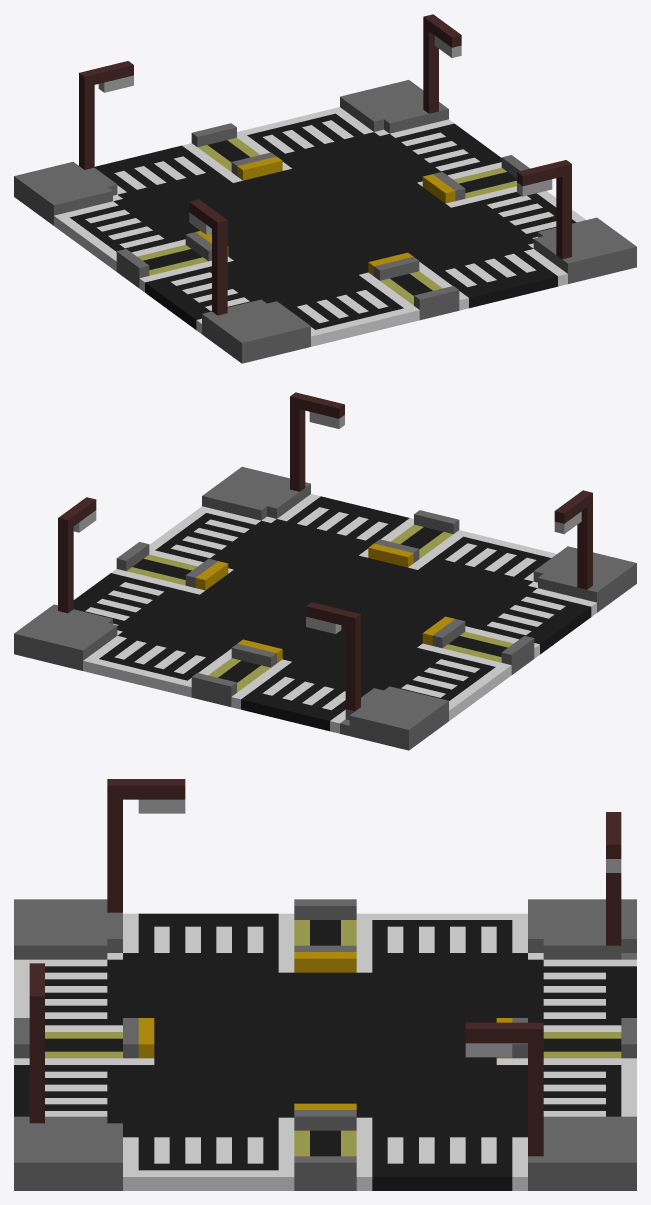
The model's file is RoadkIntersection01.fbx.
3 views of the same model, one above another, from view 1: azimuth 30°, elevation 25°; view 2: azimuth 150°, elevation 25°; view 3: azimuth 270°, elevation 25° (orthographic). The views are drawn at different scales.
Parts seen in each view (by area): view 1: ObjObject; view 2: ObjObject; view 3: ObjObject.
Boxes of the visible parts, <box> form: ObjObject: <box>14,14,636,363</box>; ObjObject: <box>14,392,636,750</box>; ObjObject: <box>14,779,636,1190</box>.
Bounding box in the file's own units: 400 × 400 × 110.
1 material, 1 textured.
